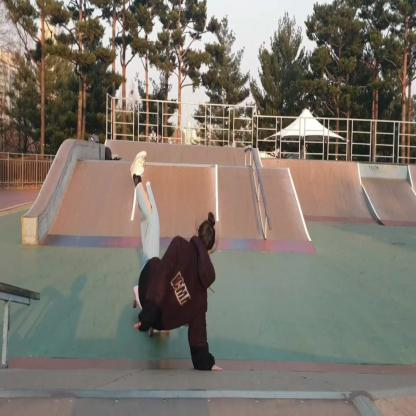Fall_Down: (129, 146, 224, 376)
